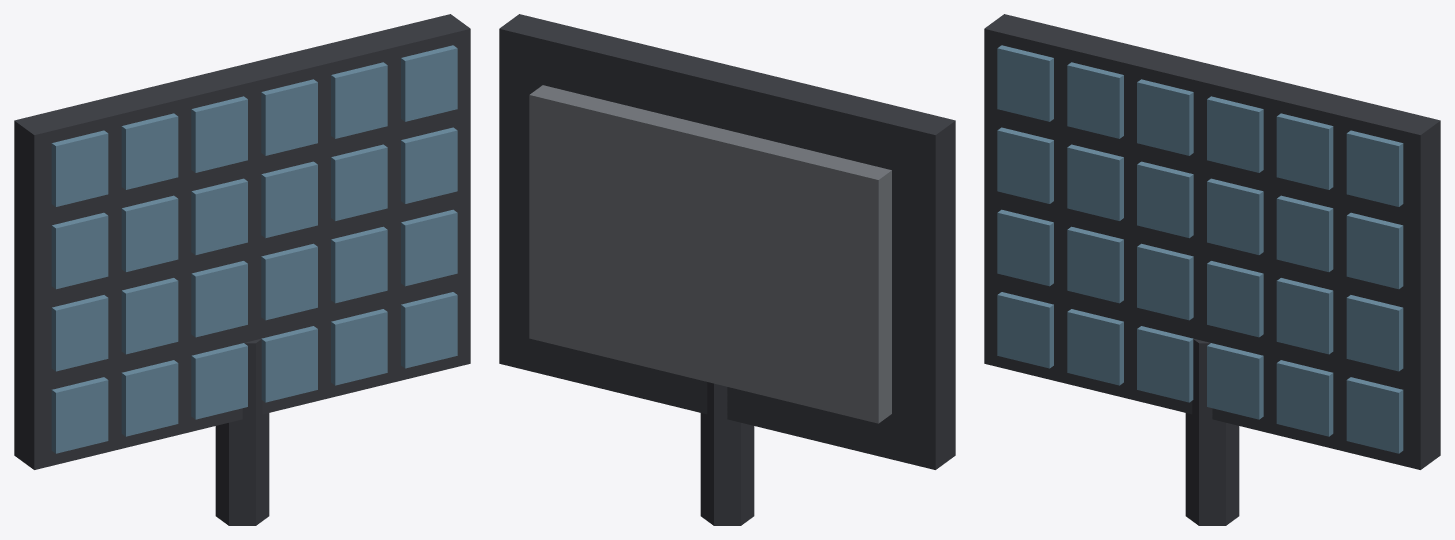
Rendered from Com_PhasedArray.fbx.
The picture shows the model from 3 angles, left to right: view 1: azimuth 30°, elevation 25°; view 2: azimuth 150°, elevation 25°; view 3: azimuth 330°, elevation 25°; orthographic projection.
Visible parts, largest first — view 1: Com_PhasedArray; view 2: Com_PhasedArray; view 3: Com_PhasedArray.
Boxes of the visible parts, box(x1,y1,x2,y2) form: Com_PhasedArray: box(14, 14, 470, 525); Com_PhasedArray: box(499, 14, 955, 525); Com_PhasedArray: box(984, 14, 1440, 525).
Size of the model in its own units: 1.5 by 1.45 by 0.225.
Materials: 1 (1 with a texture image).
